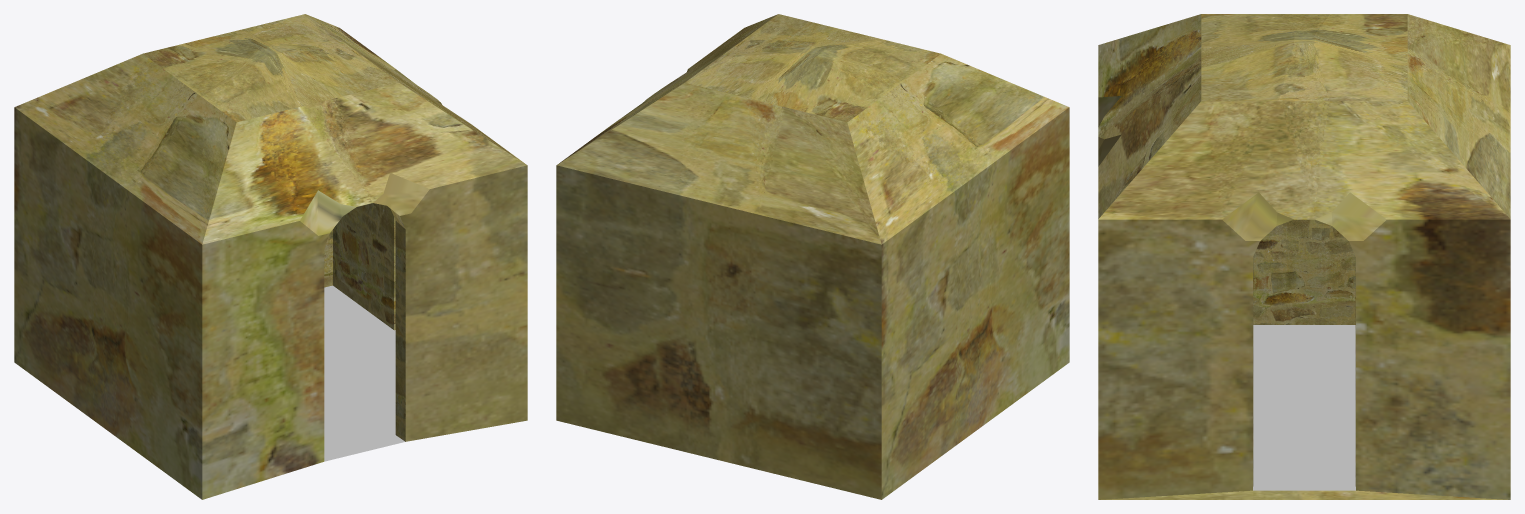
Rendered from cell-1-turn.fbx.
3 views of the same model, side by side, from view 1: azimuth 30°, elevation 25°; view 2: azimuth 150°, elevation 25°; view 3: azimuth 270°, elevation 25° (orthographic). The views are drawn at different scales.
Visible parts, largest first — view 1: cell-turn; view 2: cell-turn; view 3: cell-turn.
Boxes of the visible parts, x1,y1,x2,y2 form: cell-turn: [14, 14, 527, 499]; cell-turn: [556, 14, 1069, 499]; cell-turn: [1098, 14, 1510, 499].
Size of the model in its own units: 400 by 400 by 400.
